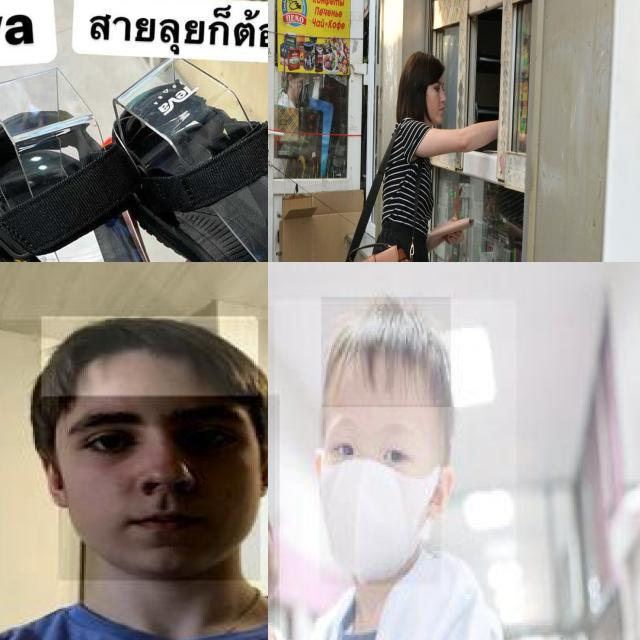No_Glasses: (55, 393, 254, 470)
Sandals: (0, 84, 268, 262)
face_mask: (320, 404, 441, 584)
face_nomask: (58, 395, 260, 580)
head_nohelmet: (42, 316, 258, 396), (322, 297, 452, 409)
person: (0, 319, 268, 640), (275, 299, 518, 640)
